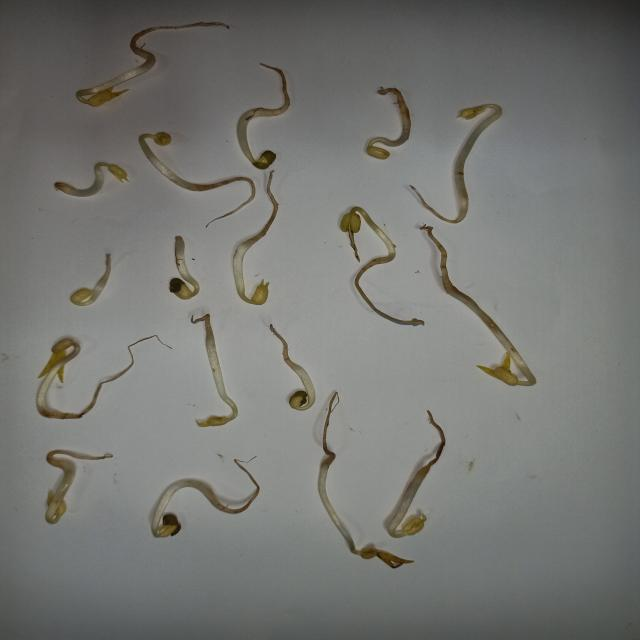leaf: (480, 350, 536, 384), (30, 339, 71, 371), (362, 547, 416, 567), (400, 514, 428, 537), (157, 515, 182, 538), (336, 215, 361, 234), (288, 390, 310, 409), (456, 107, 484, 121), (90, 94, 122, 106), (252, 281, 268, 304), (199, 416, 228, 428), (110, 164, 128, 183), (365, 146, 390, 159), (258, 149, 276, 167), (176, 280, 194, 298), (71, 288, 88, 304), (155, 131, 172, 146), (55, 502, 70, 517)
root: (85, 334, 169, 414), (353, 264, 423, 326), (201, 453, 262, 519), (127, 21, 232, 52), (200, 176, 256, 228), (414, 408, 451, 473), (425, 227, 457, 290), (409, 183, 454, 224), (242, 204, 288, 243), (322, 388, 341, 464), (274, 326, 302, 368), (184, 312, 220, 341), (271, 67, 291, 117), (42, 448, 121, 460), (376, 85, 410, 112), (54, 414, 86, 422), (102, 253, 114, 274), (55, 180, 64, 196), (175, 235, 185, 242)
stem: (447, 290, 537, 388), (457, 102, 502, 218), (75, 53, 161, 104), (318, 465, 361, 556), (137, 134, 199, 195), (37, 349, 81, 413), (150, 480, 200, 536), (204, 340, 238, 421), (352, 205, 397, 263), (387, 474, 426, 540), (40, 461, 79, 525), (237, 110, 271, 168), (364, 112, 416, 147), (234, 244, 260, 304), (66, 160, 107, 198), (175, 242, 199, 298), (75, 275, 113, 308), (293, 367, 317, 412)
